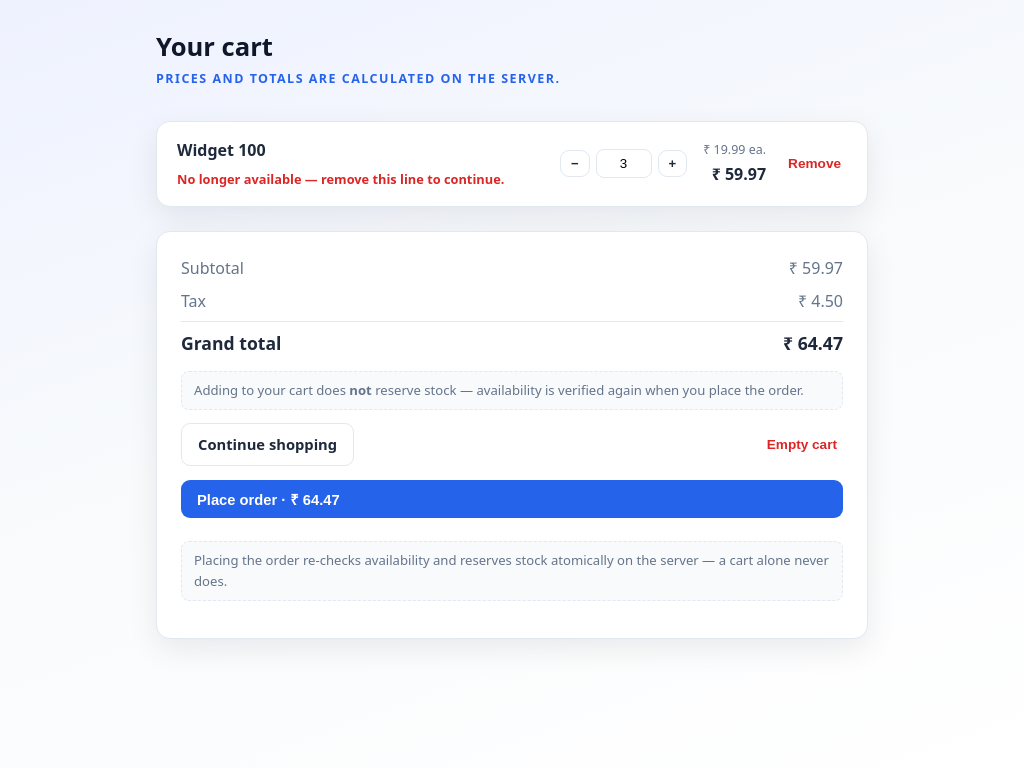
Scenario: Checkout (cart → place order) › surfaces an insufficient-stock 409 from the server instead of leaving the cart
Expected: the text "Widget 100" is shown, left=177, top=139, right=266, bottom=161
Click the button "Place order · ₹ 64.47". click: (268, 500)
box: left=181, top=480, right=843, bottom=518
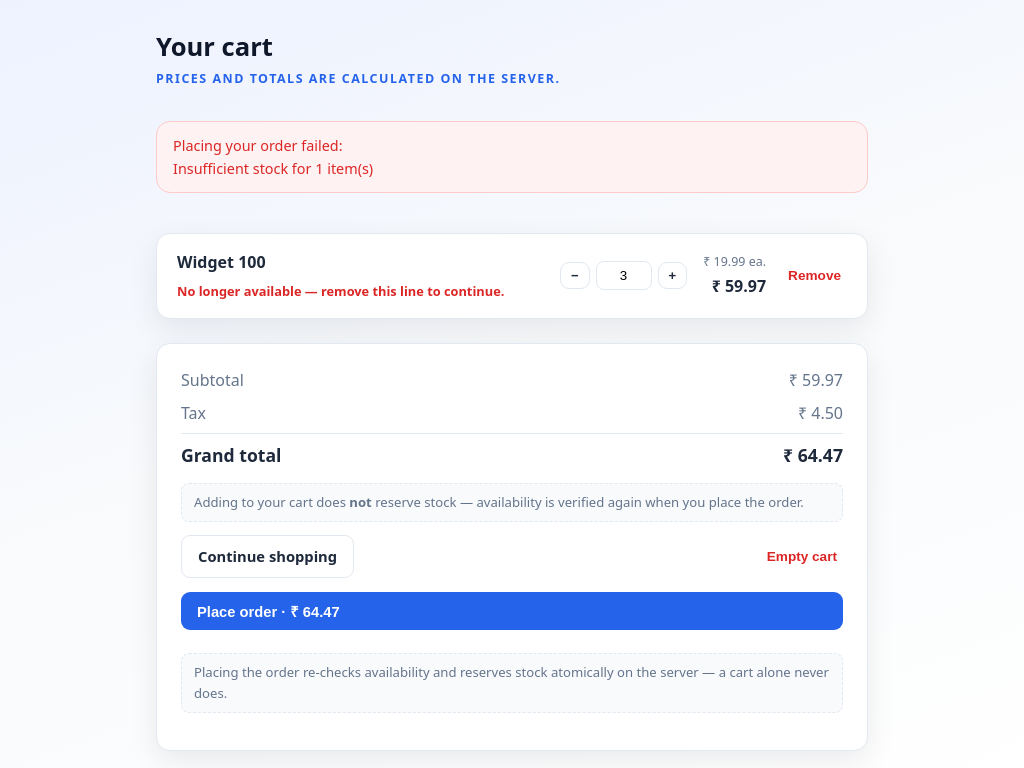
Expected: the text "Insufficient stock for 1 item(s)" is shown, left=173, top=159, right=373, bottom=178
